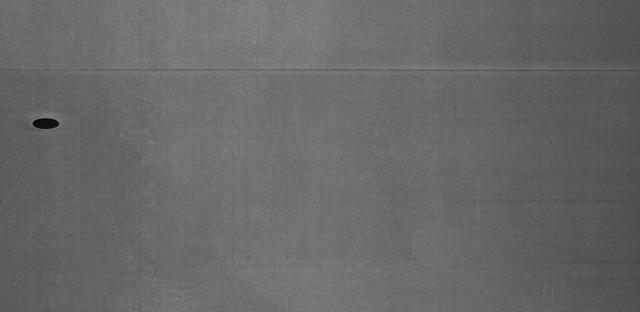punching_hole: (28, 114, 60, 132)
welding_line: (2, 62, 638, 81)
